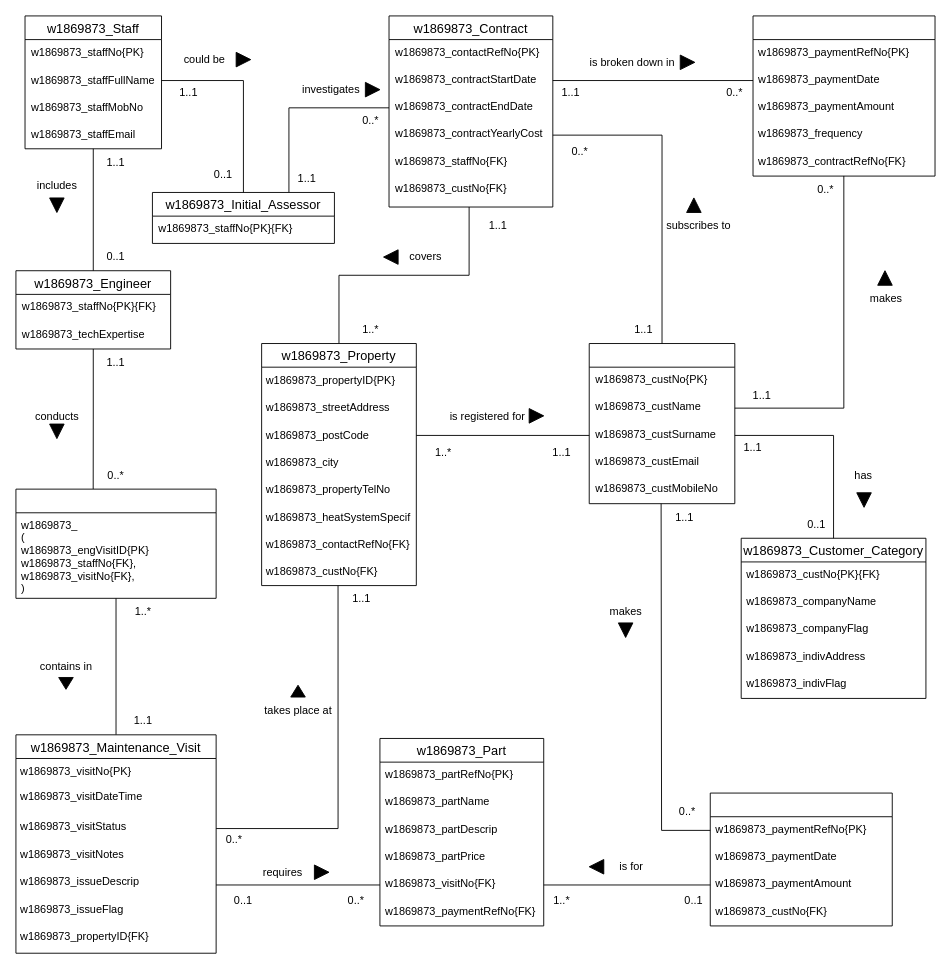
Some shapes in this 951 by 974 pixel diagram are drawn without their labels. Here are the shapes that lost their labels. From the top down, the box of each, then its label:
(752, 15, 935, 176): w1869873_Installement
(588, 343, 735, 504): w1869873_Customer
(15, 488, 216, 598): w1869873_Engineer_Maintenance_Visit
(709, 792, 892, 926): w1869873_OneOff_Payment
